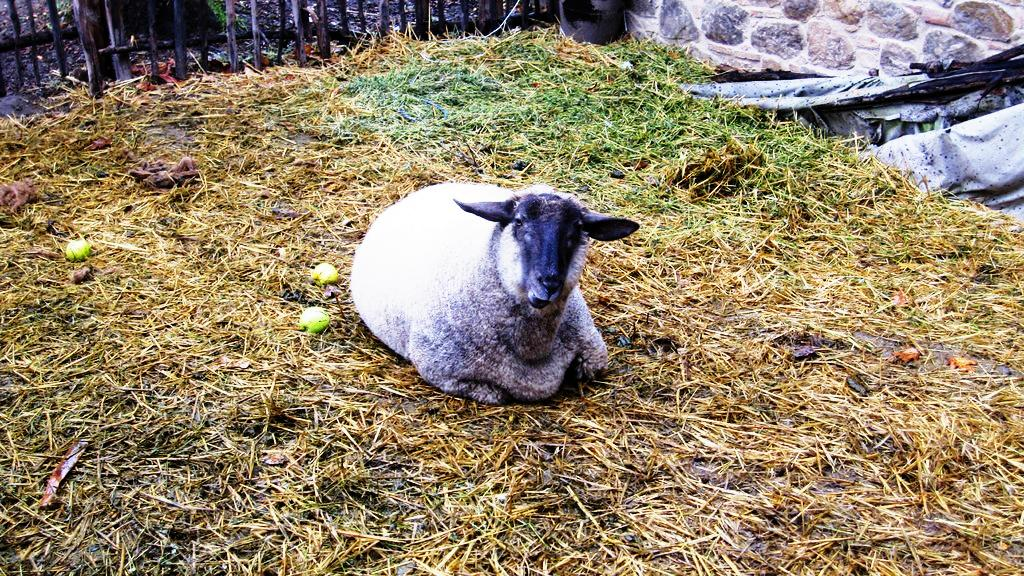Sheep: (349, 180, 635, 406)
